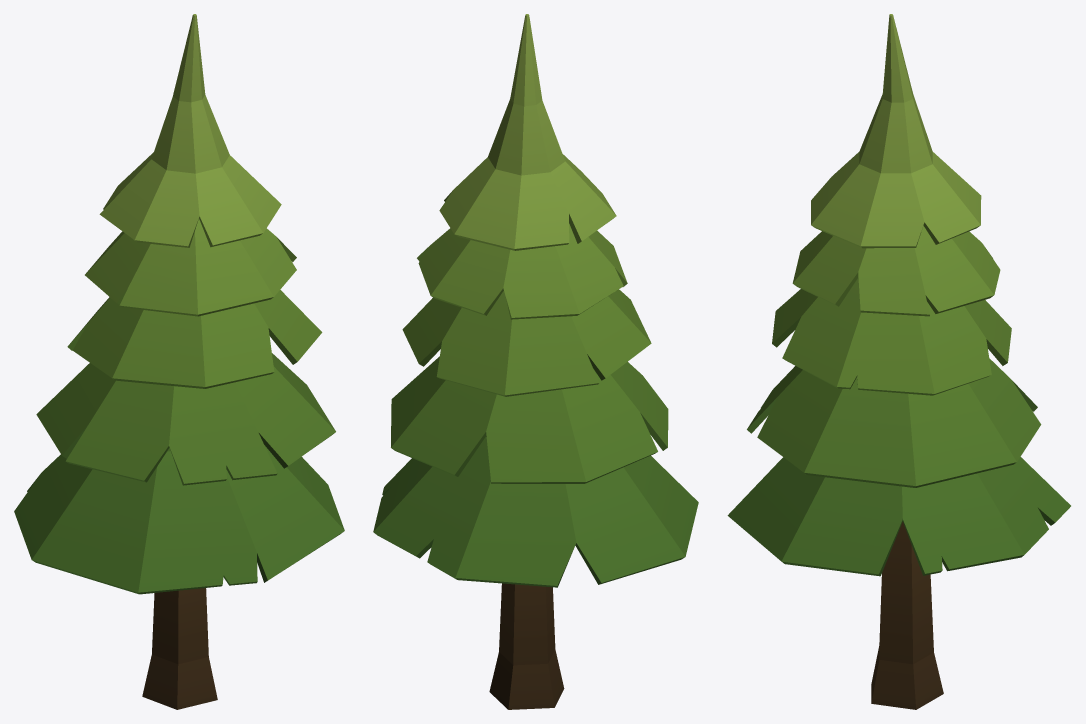
The model's file is Summer_Tree_04.glb.
The picture shows the model from 3 angles, left to right: view 1: azimuth 30°, elevation 25°; view 2: azimuth 150°, elevation 25°; view 3: azimuth 270°, elevation 25°; orthographic projection.
Parts seen in each view (by area): view 1: Summer_Tree_04_LOD0; view 2: Summer_Tree_04_LOD0; view 3: Summer_Tree_04_LOD0.
Part boxes in pixels (bbox=[...]): Summer_Tree_04_LOD0: bbox=[14, 14, 344, 709]; Summer_Tree_04_LOD0: bbox=[373, 14, 698, 709]; Summer_Tree_04_LOD0: bbox=[727, 14, 1070, 709].
Size of what is drawn, in the model's own units: 1.58 by 3.56 by 1.63.
Materials: 1 (1 with a texture image).
